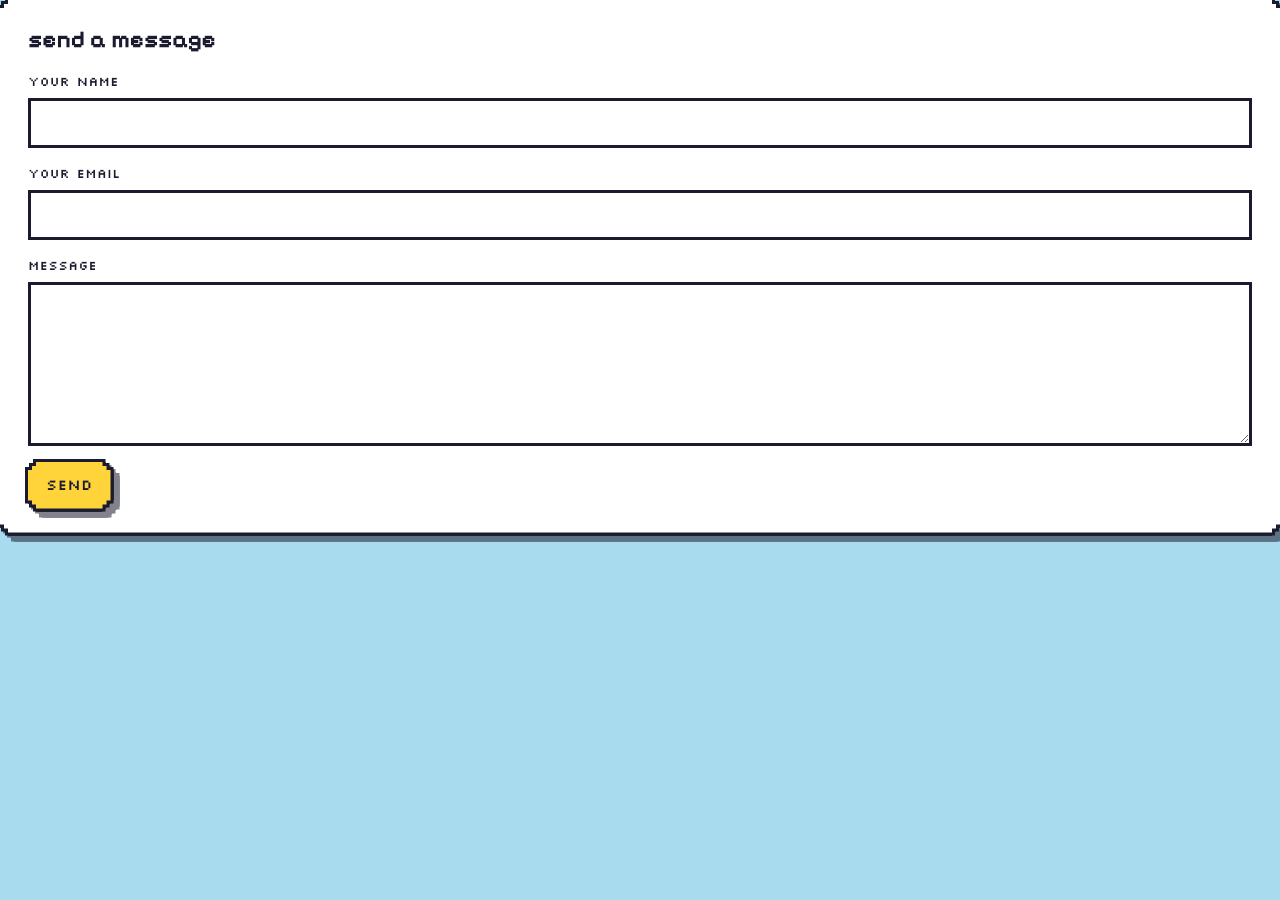
Test: ContactForm › shows errors next to their fields and keeps what was typed
Click the button "send" at (69, 485), box [28,462,110,508]
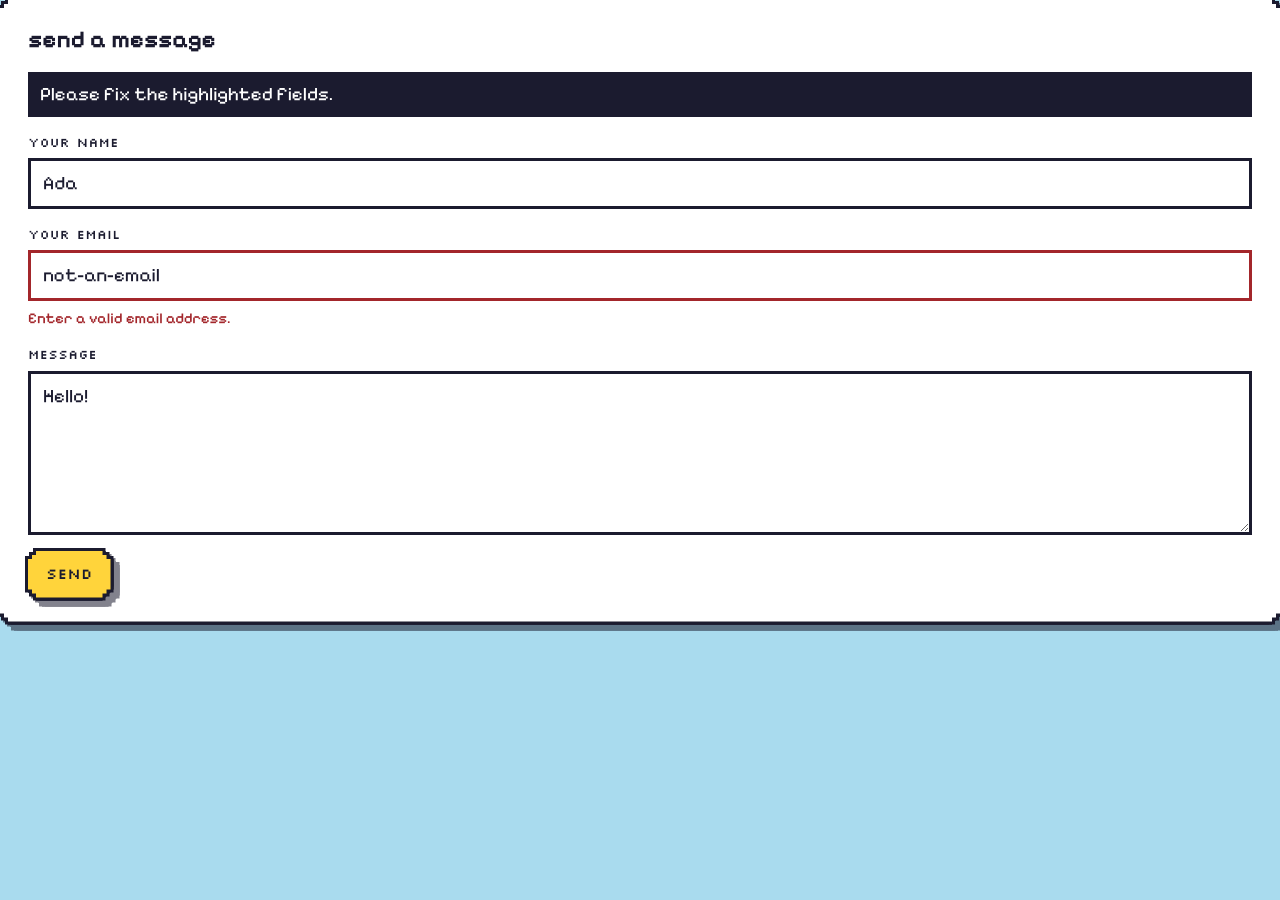
Check: the message reads "Please fix the highlighted fields.", box [40,83,333,105]
Check: the field labelled "your email" holds "not-an-email", box [28,250,1252,300]
Check: the text box labelled "message" holds "Hello!", box [28,370,1252,535]
